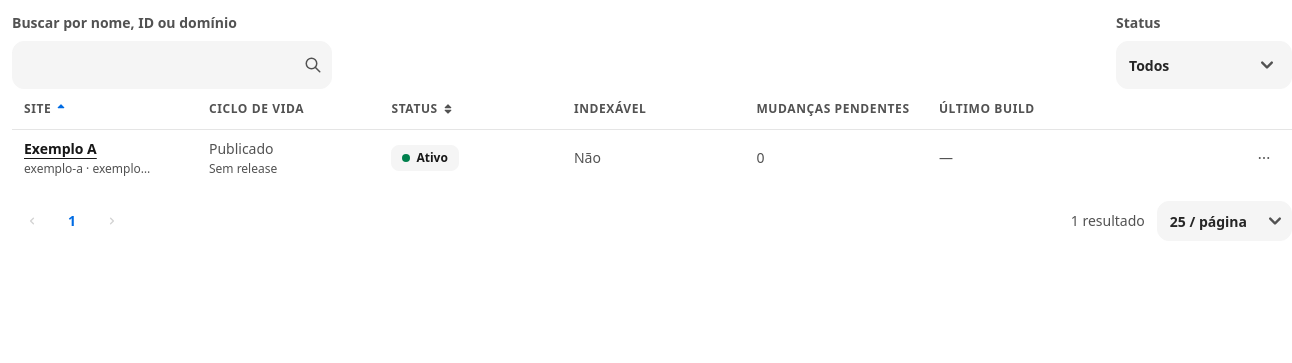
Test case: tabela de sites › tem o link para os conteúdos de cada site, mesmo sem outras ações
This screenshot has width=1292, height=363.
Click the button named "Mais ações: exemplo-a" at point(1264, 158), box [1256, 150, 1272, 166]
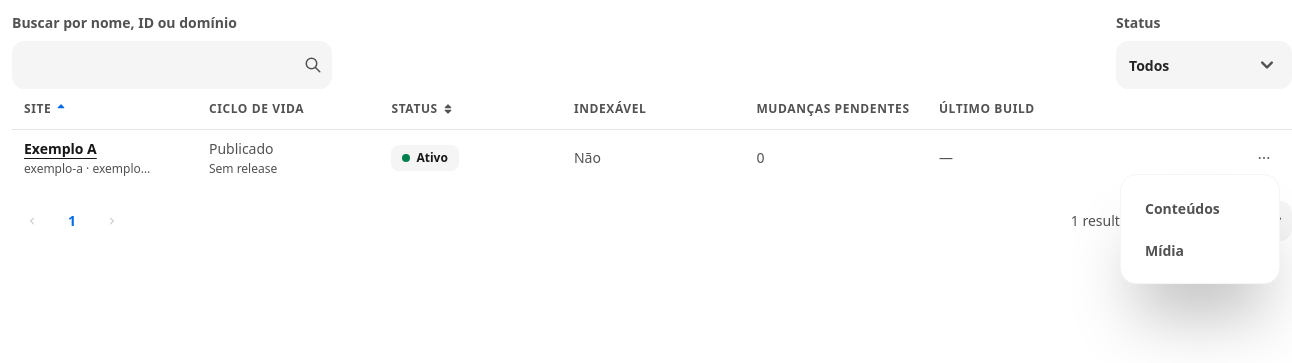
Now the menu is shown, box [1120, 174, 1280, 284]
